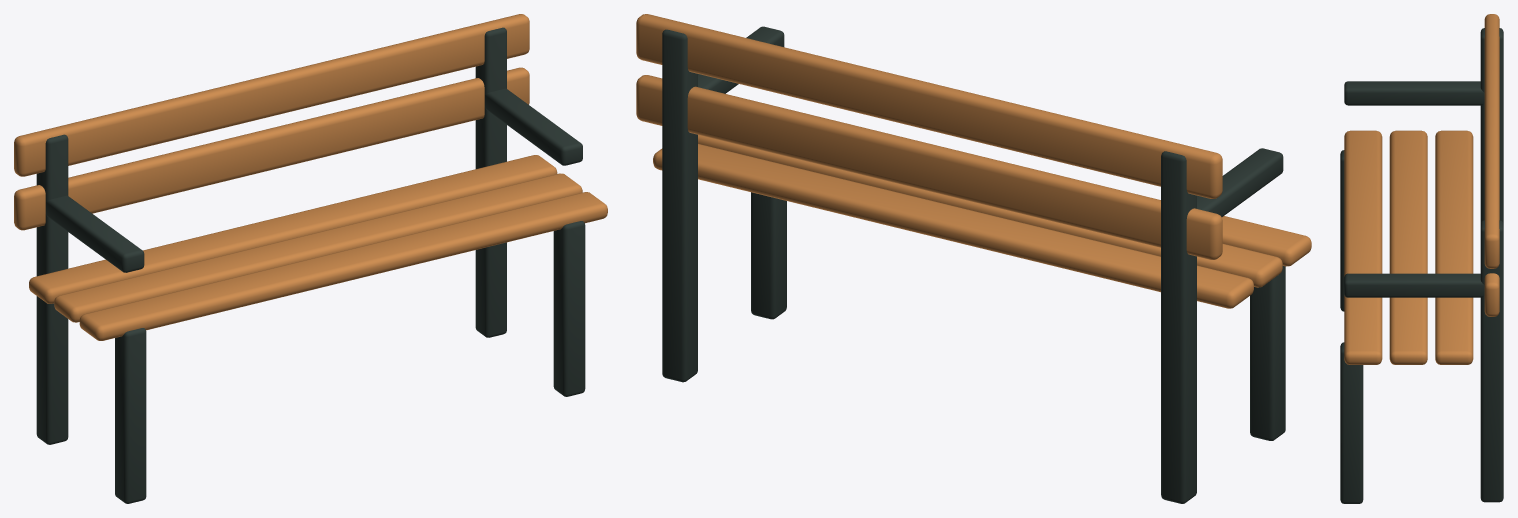
Rendered from banc.glb.
The picture shows the model from 3 angles, left to right: view 1: azimuth 30°, elevation 25°; view 2: azimuth 150°, elevation 25°; view 3: azimuth 270°, elevation 25°; orthographic projection. The views are drawn at different scales.
Visible parts, largest first — view 1: dossier1, dossier0, assise0, assise1, assise2, pied_ar-0.6, pied_ar0.6, pied_av0.6, pied_av-0.6, accoudoir-0.6, accoudoir0.6; view 2: dossier1, dossier0, assise2, pied_ar0.6, pied_ar-0.6, assise1, pied_av-0.6, pied_av0.6, accoudoir-0.6, assise0, accoudoir0.6; view 3: assise0, assise1, assise2, pied_ar0.6, dossier1, accoudoir-0.6, accoudoir0.6, pied_av0.6, pied_ar-0.6, pied_av-0.6, dossier0.
Part boxes in pixels (x1,y1,x2,y2): dossier1: [14, 14, 529, 176]; dossier0: [14, 67, 529, 230]; assise0: [79, 192, 607, 340]; assise1: [54, 173, 582, 322]; assise2: [29, 155, 557, 303]; pied_ar-0.6: [36, 134, 68, 444]; pied_ar0.6: [475, 27, 506, 337]; pied_av0.6: [553, 221, 585, 396]; pied_av-0.6: [115, 328, 146, 503]; accoudoir-0.6: [45, 195, 144, 272]; accoudoir0.6: [484, 88, 582, 165]; dossier1: [636, 14, 1222, 198]; dossier0: [636, 75, 1222, 259]; assise2: [653, 144, 1253, 308]; pied_ar0.6: [662, 29, 697, 382]; pied_ar-0.6: [1161, 151, 1196, 503]; assise1: [698, 135, 1282, 287]; pied_av-0.6: [1250, 266, 1285, 440]; pied_av0.6: [751, 192, 786, 319]; accoudoir-0.6: [1197, 148, 1283, 216]; assise0: [1222, 216, 1311, 266]; accoudoir0.6: [698, 26, 784, 93]; assise0: [1344, 130, 1382, 364]; assise1: [1389, 130, 1427, 364]; assise2: [1435, 130, 1473, 364]; pied_ar0.6: [1480, 220, 1503, 502]; dossier1: [1484, 14, 1499, 268]; accoudoir-0.6: [1344, 81, 1484, 105]; accoudoir0.6: [1344, 273, 1484, 297]; pied_av0.6: [1340, 342, 1363, 503]; pied_ar-0.6: [1480, 28, 1503, 223]; pied_av-0.6: [1340, 150, 1344, 311]; dossier0: [1484, 273, 1499, 316].
Size of the model in its own units: 1.4 by 0.815 by 0.43.
